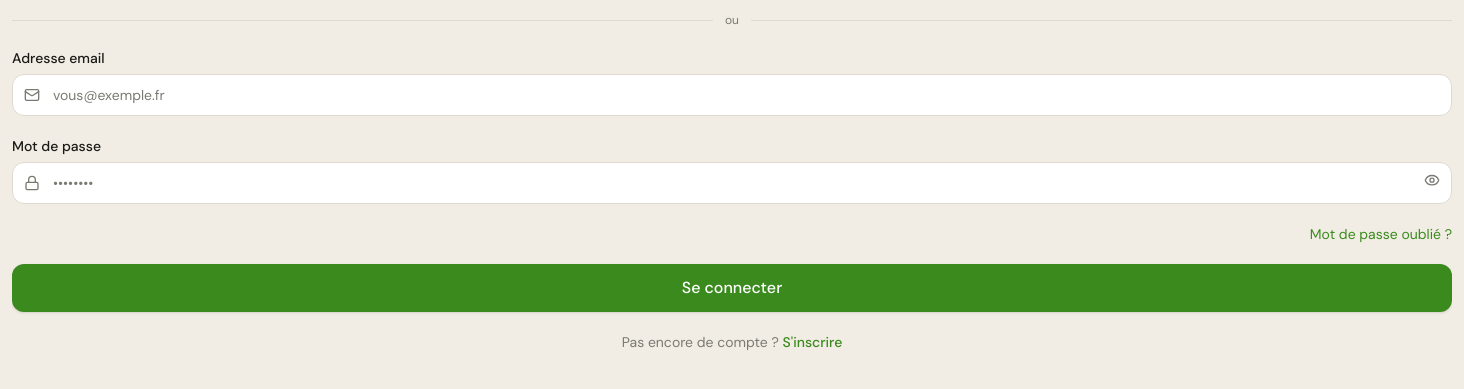
Test: LoginForm — erreurs API › affiche "Email ou mot de passe incorrect" sur une erreur 401
This screenshot has width=1464, height=389.
In the field labelled "Adresse email": [732, 95] box [12,74,1452,116], type "user@test.com"
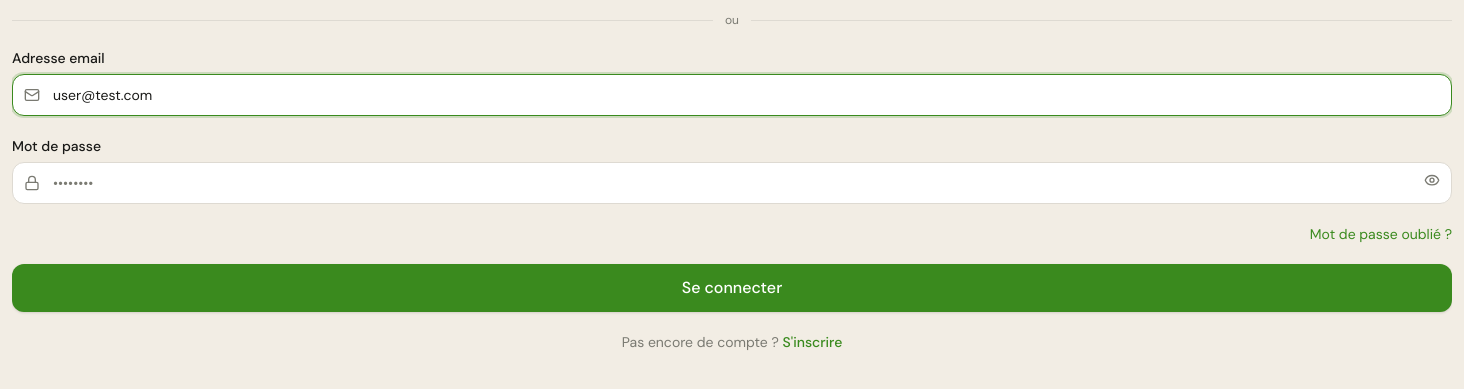
In the password field labelled "Mot de passe": [732, 183] box [12,162,1452,204], type "wrongpassword"
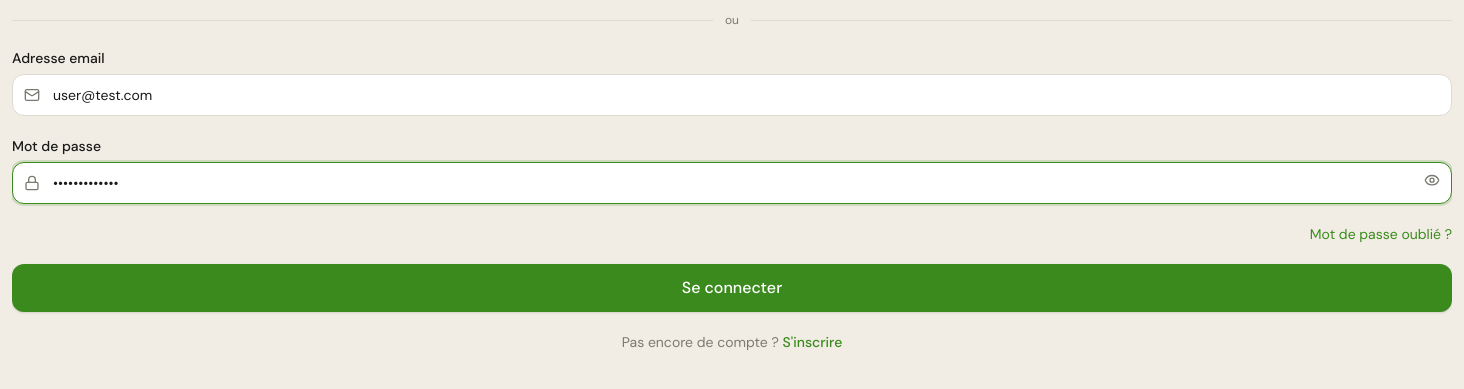
Click the button "Se connecter": [732, 288] box [12,264,1452,312]
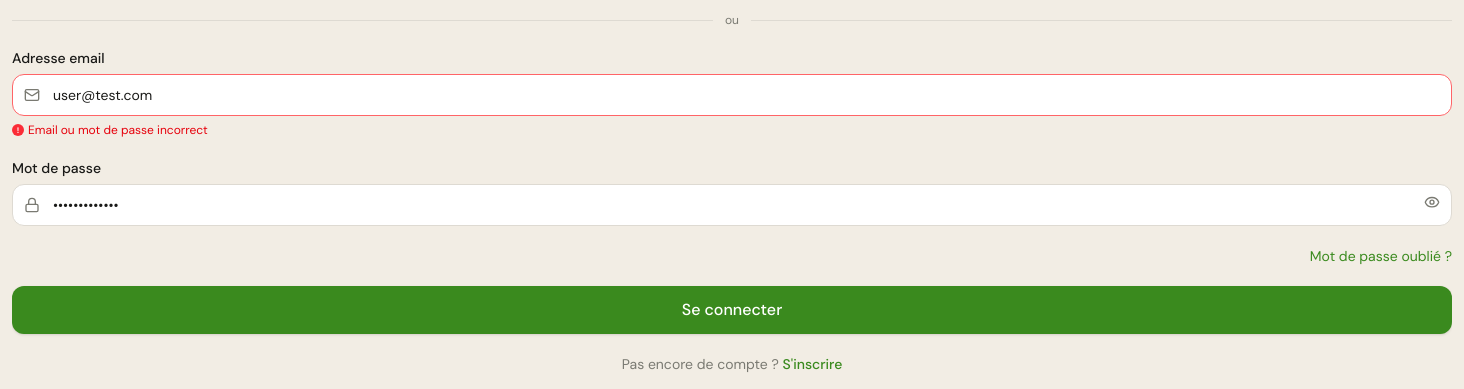
Now the text "Email ou mot de passe incorrect" is shown, box [28,122,208,138]
